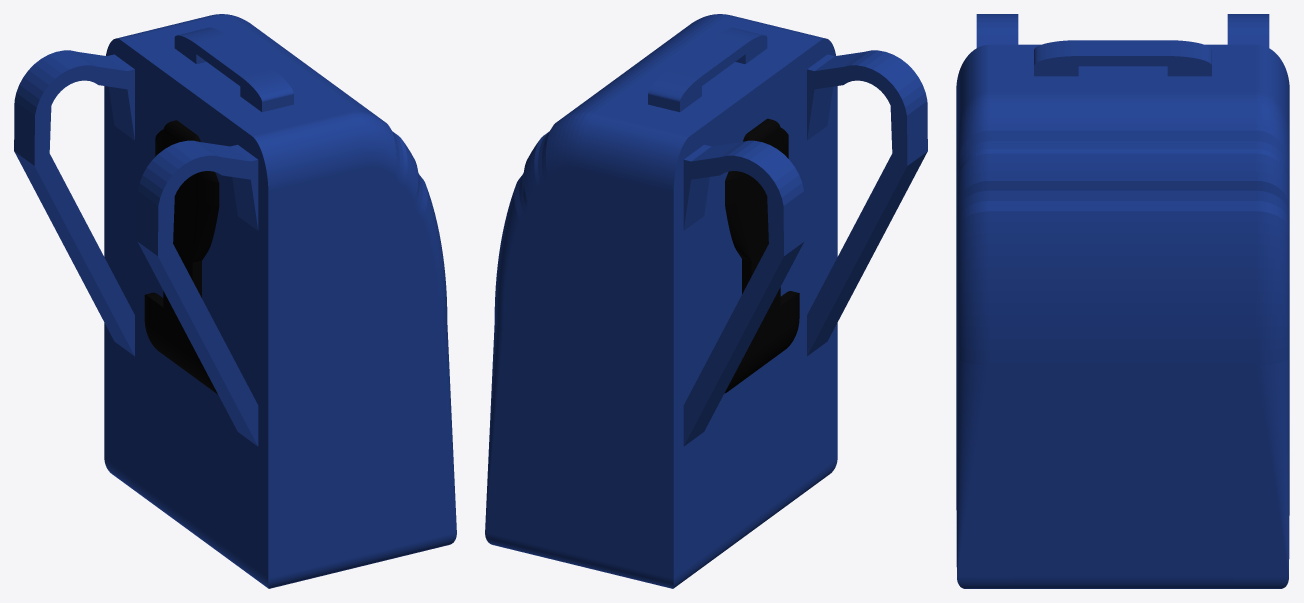
Rendered from Rucksack.fbx.
The picture shows the model from 3 angles, left to right: view 1: azimuth 30°, elevation 25°; view 2: azimuth 150°, elevation 25°; view 3: azimuth 270°, elevation 25°; orthographic projection.
Visible parts, largest first — view 1: Cube, Cube.001, Cube.002; view 2: Cube, Cube.001, Cube.002; view 3: Cube, Cube.001.
Boxes of the visible parts, left/top/right/bottom form: Cube: left=104, top=14, right=456, bottom=588; Cube.001: left=14, top=50, right=258, bottom=446; Cube.002: left=144, top=120, right=219, bottom=394; Cube: left=485, top=14, right=837, bottom=588; Cube.001: left=683, top=50, right=927, bottom=446; Cube.002: left=724, top=118, right=799, bottom=393; Cube: left=956, top=40, right=1289, bottom=588; Cube.001: left=976, top=14, right=1269, bottom=47.
Size of the model in its own units: 0.3061 by 0.4703 by 0.3001.
